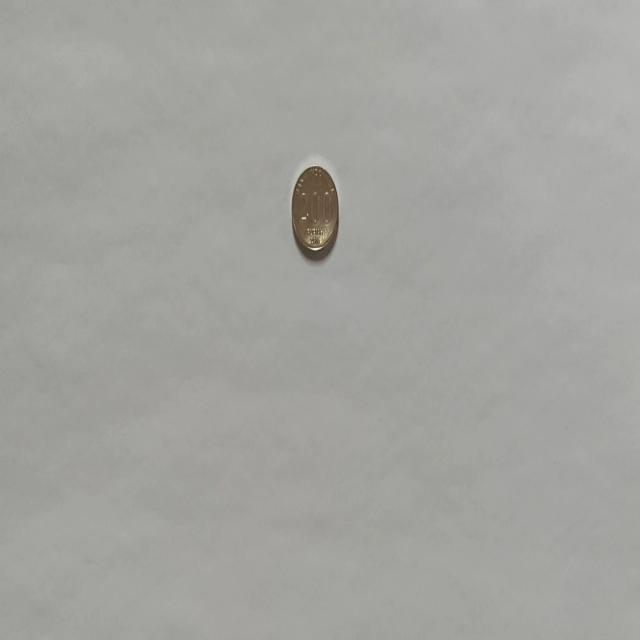dua ratus rupiah: (290, 162, 339, 255)
